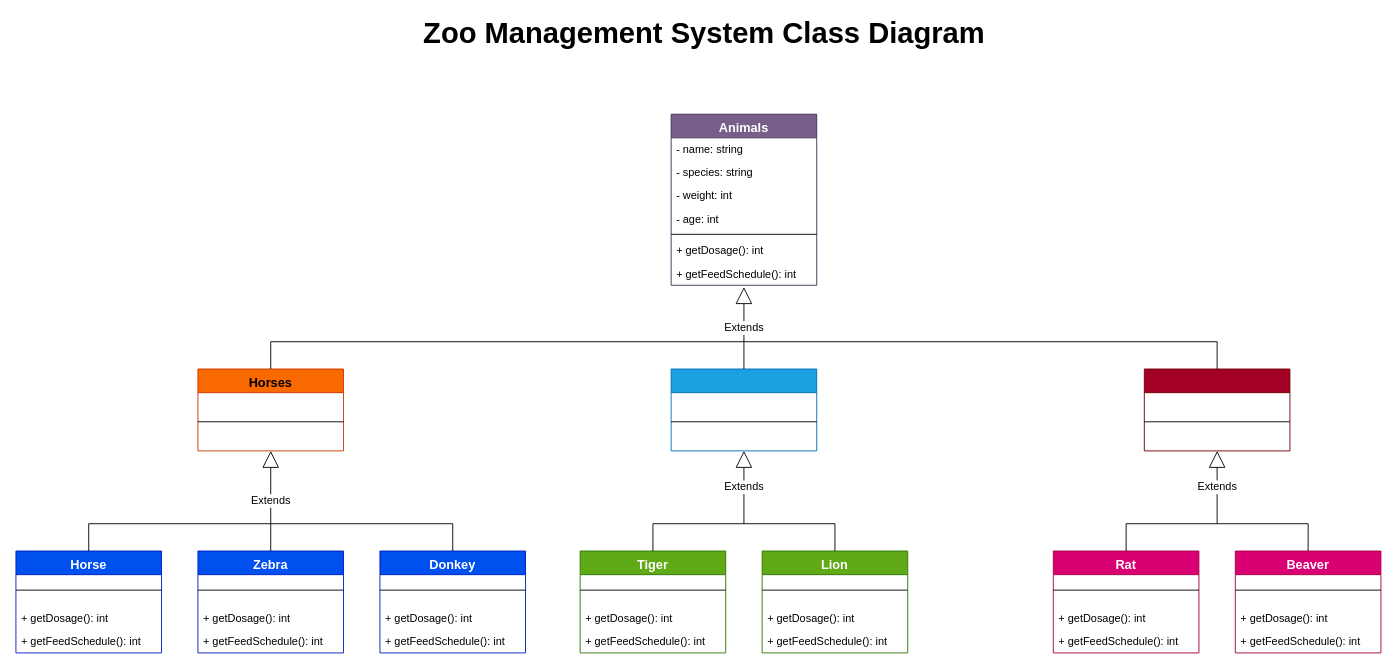
The diagram is 1397 pixels wide and 671 high, and some of its shapes have lost their labels. Each missing label, with the centre of its shape:
"Felines" belongs at [743,409].
"Rodents" belongs at [1216,409].
